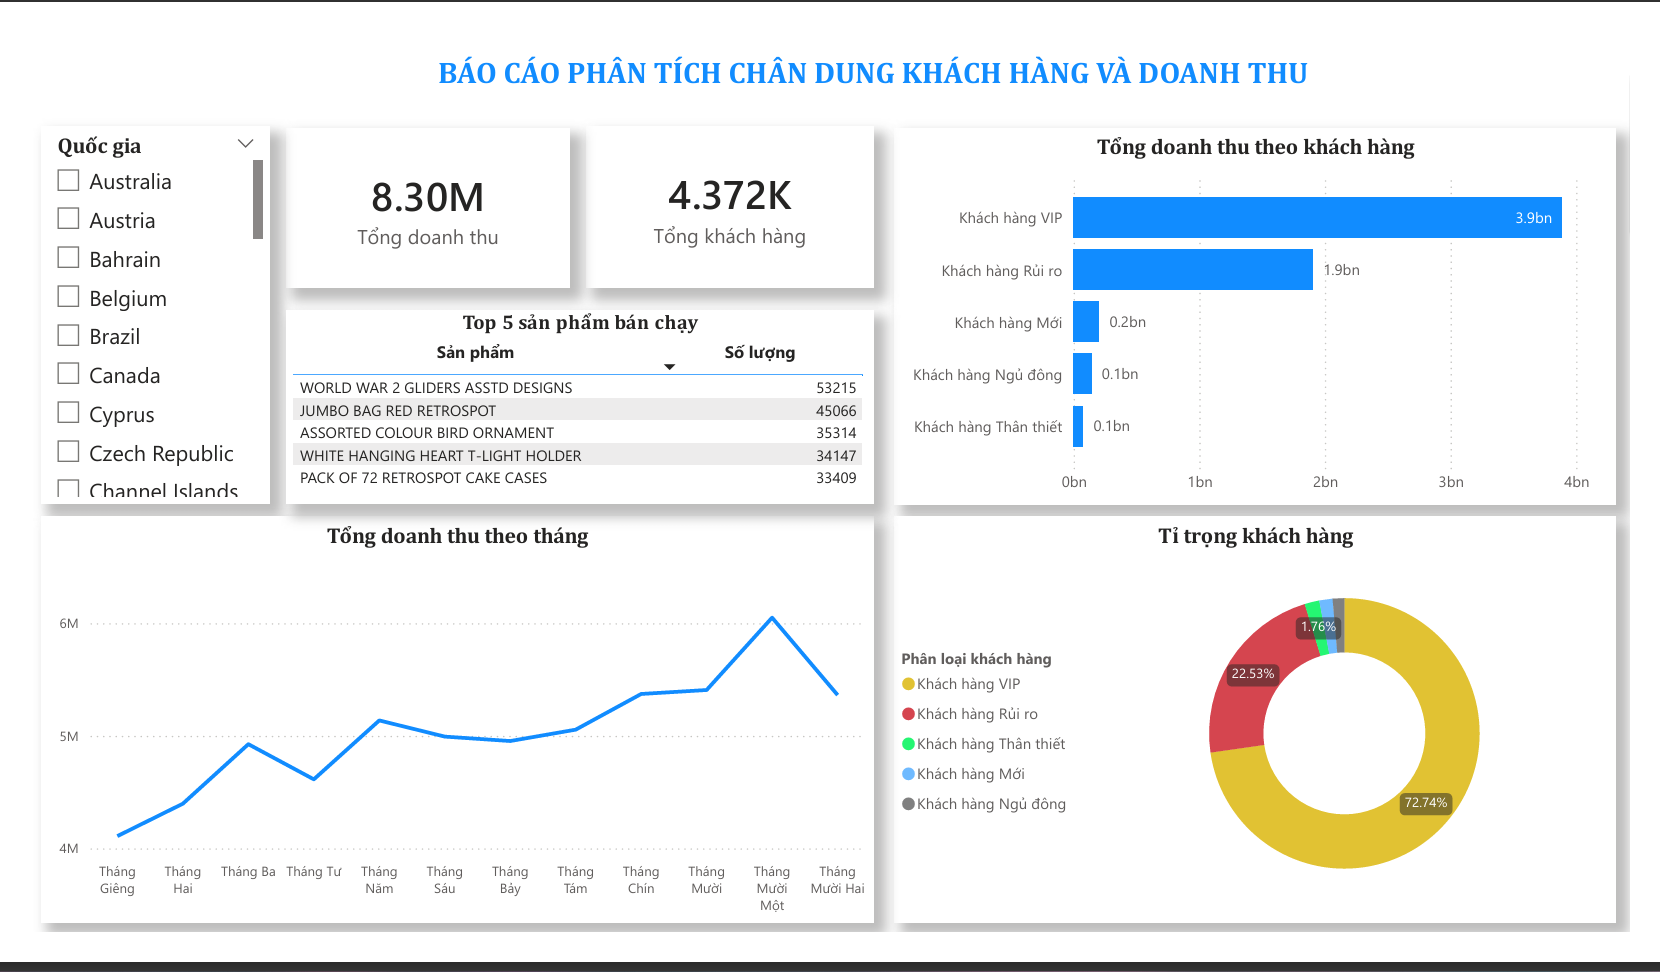

The dashboard page shown, as its layout file describes it:
{"tool":"powerbi","page":{"name":"Page 1","canvas":[1280,720],"ordinal":0},"visuals":[{"type":"clusteredBarChart","title":"Tổng doanh thu theo khách hàng","fields":{"Category":["RFM_Table.Phan_Loai_Khach_Hang"],"Y":["Sum(OnlineRetail.CustomerID)"]},"box":[692.1,77,577.2,300.8],"z":0},{"type":"cardVisual","fields":{"Data":["Count(OnlineRetail.CustomerID)"]},"box":[445.1,75.8,229.9,129.6],"z":1000},{"type":"cardVisual","fields":{"Data":["Sum(RFM_Table.M_Value)"]},"box":[205.4,77,226.2,128.4],"z":2000},{"type":"slicer","fields":{"Values":["OnlineRetail.Country"]},"box":[8.6,75.8,183.4,302],"z":3000},{"type":"donutChart","title":"Tỉ trọng khách hàng","fields":{"Category":["RFM_Table.Phan_Loai_Khach_Hang"],"Y":["Sum(RFM_Table.M_Value)"]},"box":[692.1,387.6,577.2,325.3],"z":4000},{"type":"lineChart","title":"Tổng doanh thu theo tháng","fields":{"Y":["Sum(RFM_Table.M_Value)"],"Category":["OnlineRetail.InvoiceDate.Variation.Phân cấp ngày tháng.Tháng"]},"box":[8.6,387.6,666.4,325.3],"z":5000},{"type":"tableEx","title":"Top 5 sản phẩm bán chạy","fields":{"Values":["OnlineRetail.Description","Sum(OnlineRetail.Quantity)"]},"box":[205.4,222.6,469.6,155.3],"z":6000},{"type":"textbox","box":[236,13.5,876.8,51.4],"z":7000}]}

Visuals, with their boxes on the page's 1280x720 design canvas (x1, y1, x2, y2). These are canvas units, not pixel positions in the 1660x972 screenshot, which may show the page scaled, cropped or inside an application window:
"Tổng doanh thu theo khách hàng" clusteredBarChart: BBox(692, 77, 1269, 378)
cardVisual - Count(OnlineRetail.CustomerID): BBox(445, 76, 675, 205)
cardVisual - Sum(RFM_Table.M_Value): BBox(205, 77, 432, 205)
slicer - OnlineRetail.Country: BBox(9, 76, 192, 378)
"Tỉ trọng khách hàng" donutChart: BBox(692, 388, 1269, 713)
"Tổng doanh thu theo tháng" lineChart: BBox(9, 388, 675, 713)
"Top 5 sản phẩm bán chạy" tableEx: BBox(205, 223, 675, 378)
textbox: BBox(236, 14, 1113, 65)
